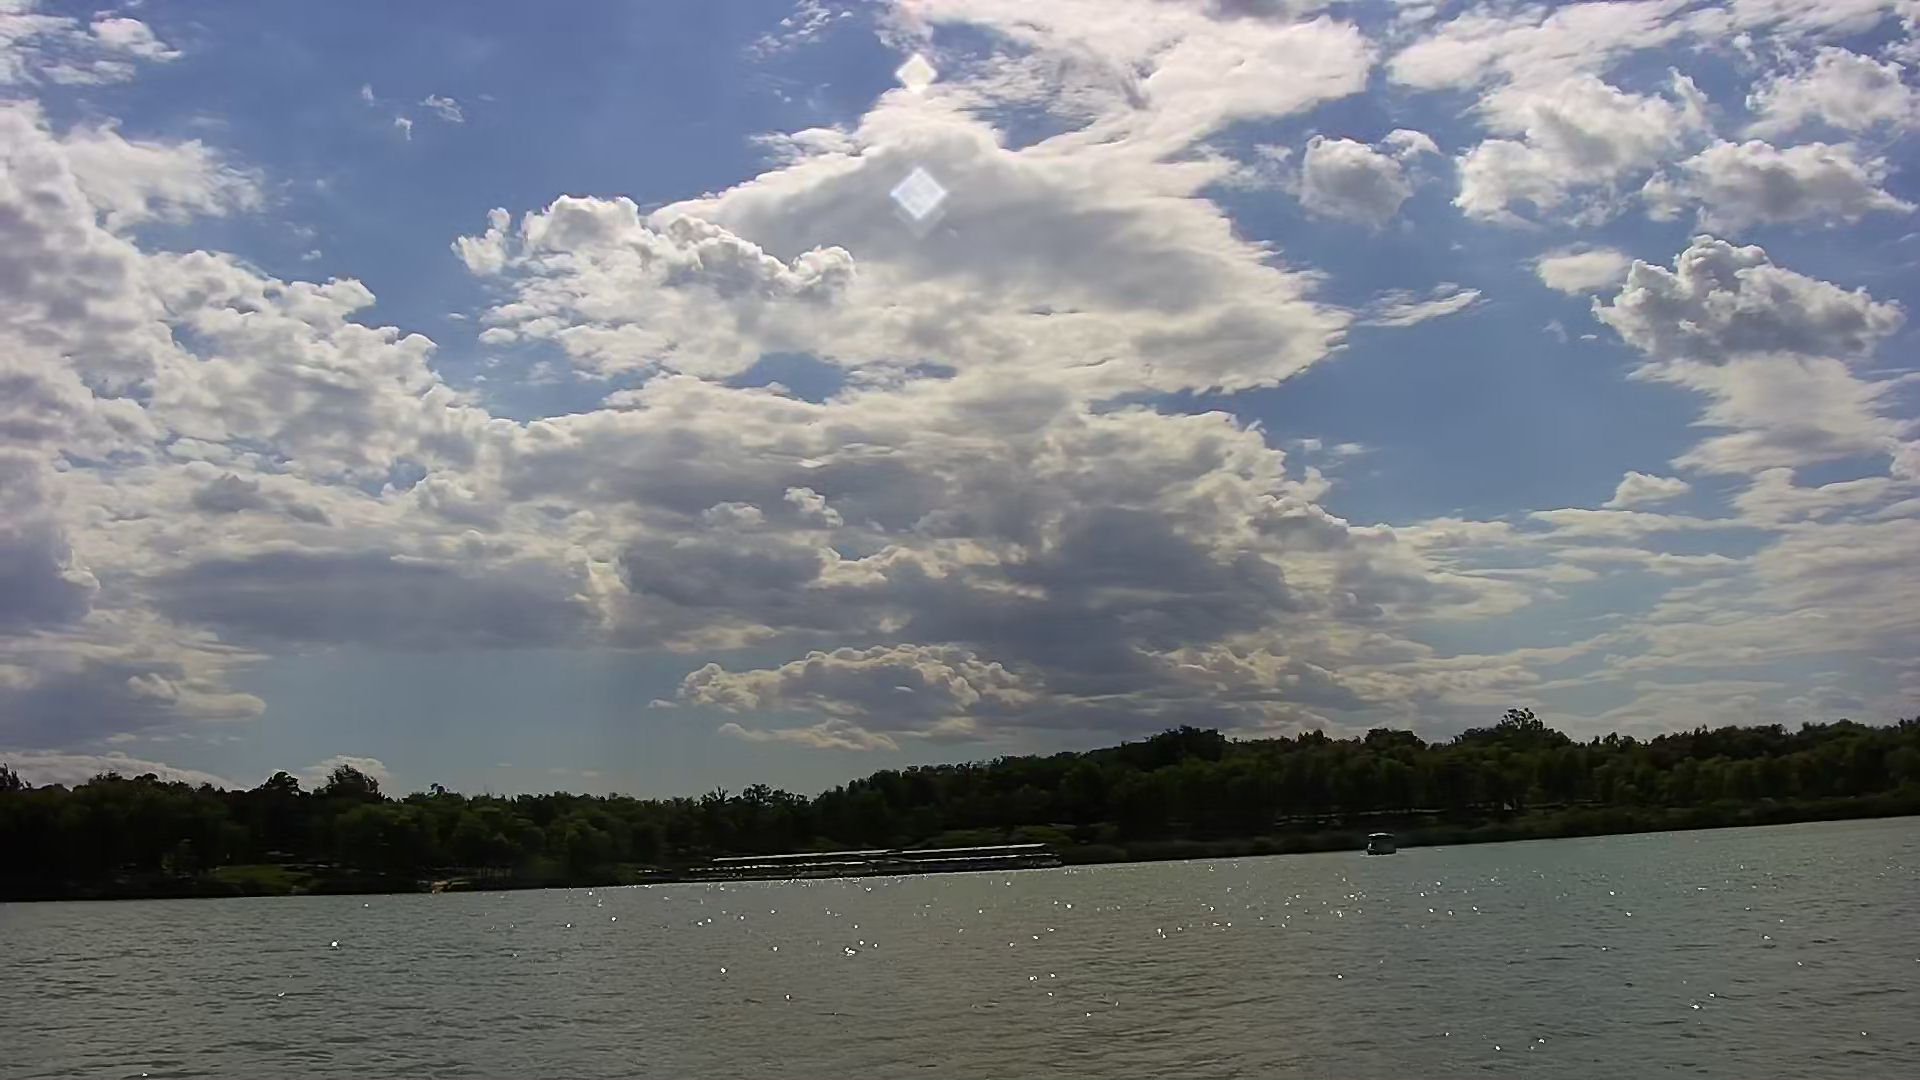boat: (1358, 824, 1404, 858)
harbor: (705, 840, 1058, 885)
